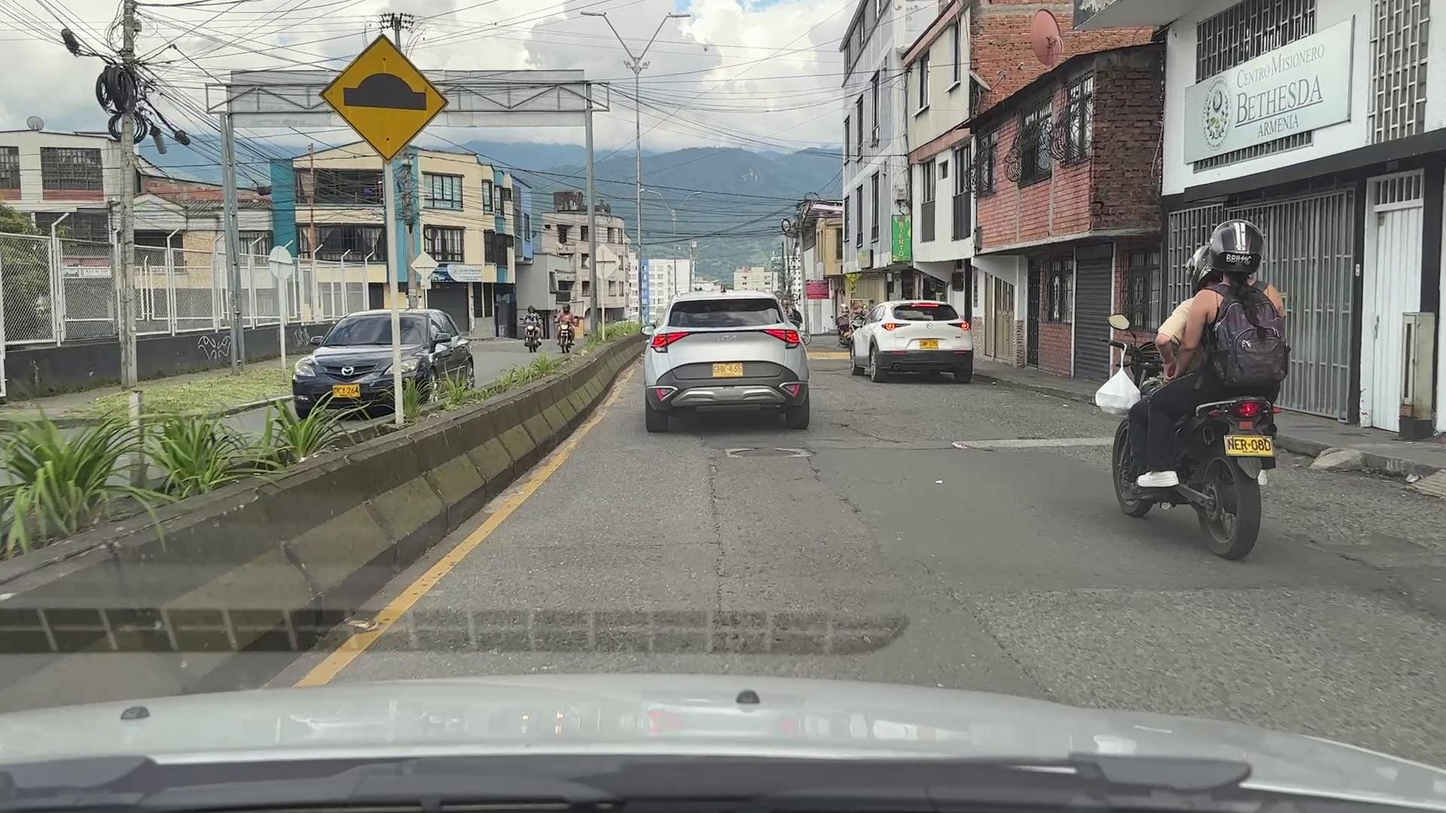bache: (933, 443, 975, 450)
grieta: (831, 423, 902, 443)
registro: (732, 449, 799, 457)
